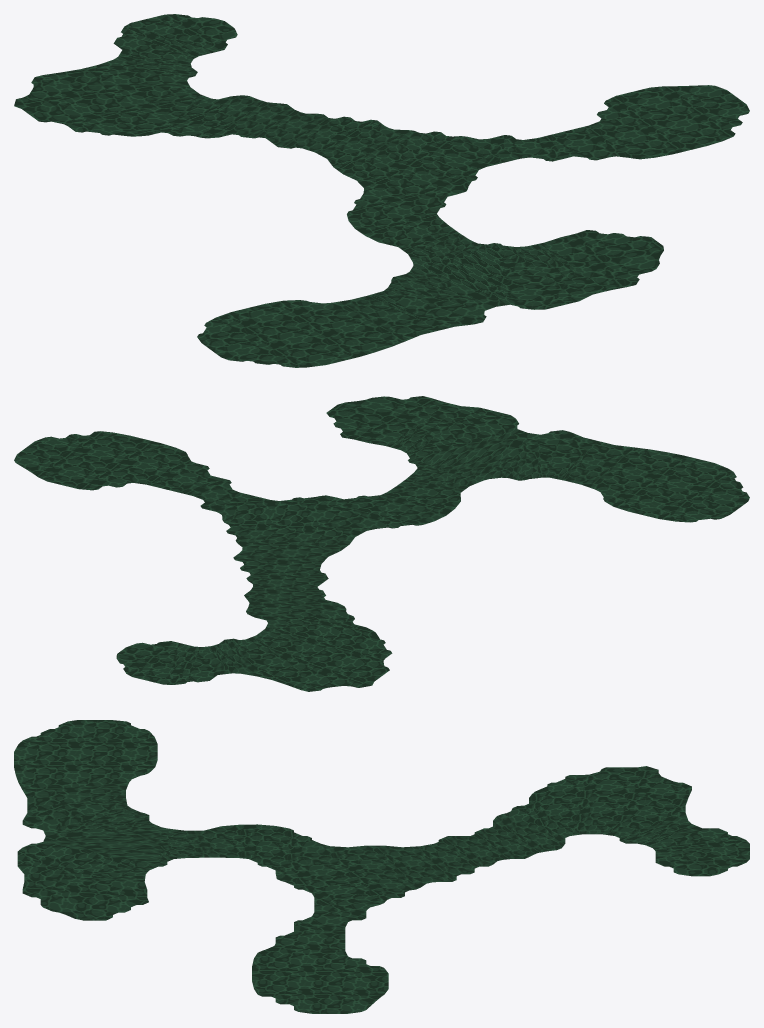
File: WaterMesh.obj
The picture shows the model from 3 angles, top to bottom: view 1: azimuth 30°, elevation 25°; view 2: azimuth 150°, elevation 25°; view 3: azimuth 270°, elevation 25°; orthographic projection. The views are drawn at different scales.
Visible parts, largest first — view 1: polySurface42 pCube44; view 2: polySurface42 pCube44; view 3: polySurface42 pCube44.
Part boxes in pixels (left/top/right/bottom): polySurface42 pCube44: left=14, top=14, right=749, bottom=367; polySurface42 pCube44: left=14, top=396, right=749, bottom=691; polySurface42 pCube44: left=14, top=720, right=749, bottom=1013.
Size of the model in its own units: 231 by 0 by 244.
